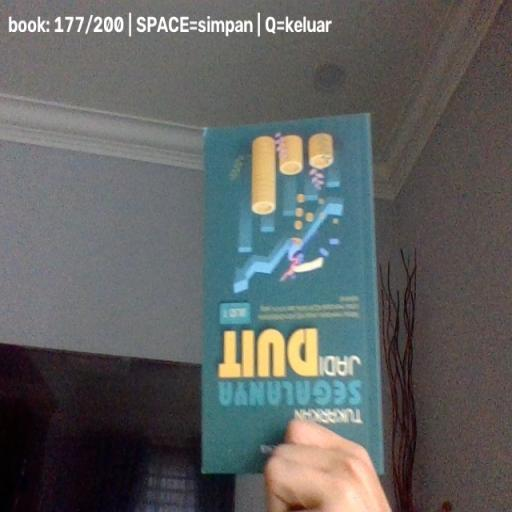Book: (200, 112, 384, 477)
